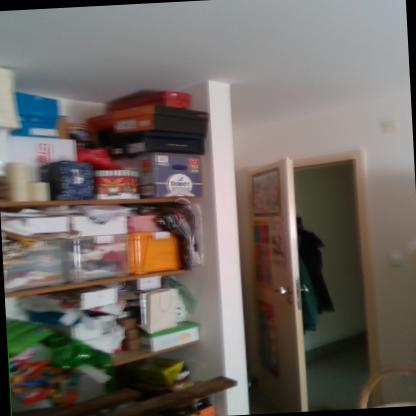semi: (233, 142, 388, 414)
